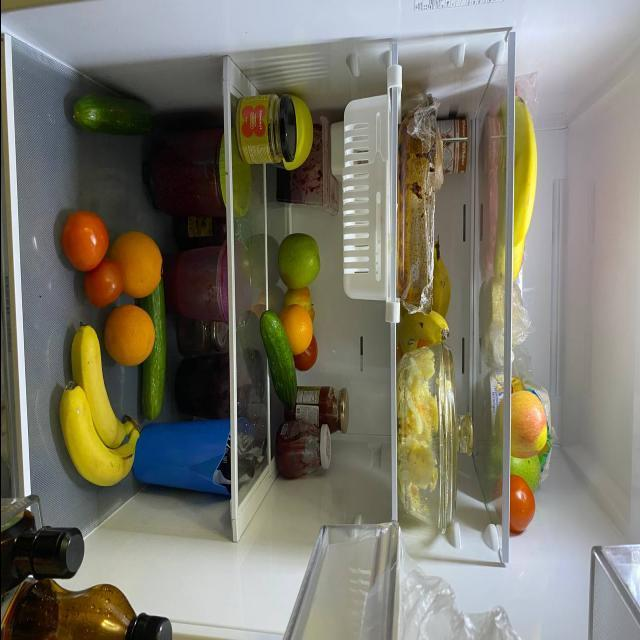Apple: (497, 386, 550, 456), (274, 228, 322, 298), (505, 442, 546, 492), (287, 286, 313, 328)
Banana: (58, 319, 138, 502), (493, 78, 542, 286), (398, 258, 450, 366)
Cucumber: (55, 90, 158, 160), (140, 267, 173, 421), (260, 306, 299, 424)
Orange: (115, 222, 164, 304), (105, 301, 158, 375), (279, 296, 317, 356)
Tomato: (56, 201, 113, 275), (77, 260, 121, 310), (507, 474, 539, 536), (293, 333, 318, 378)
